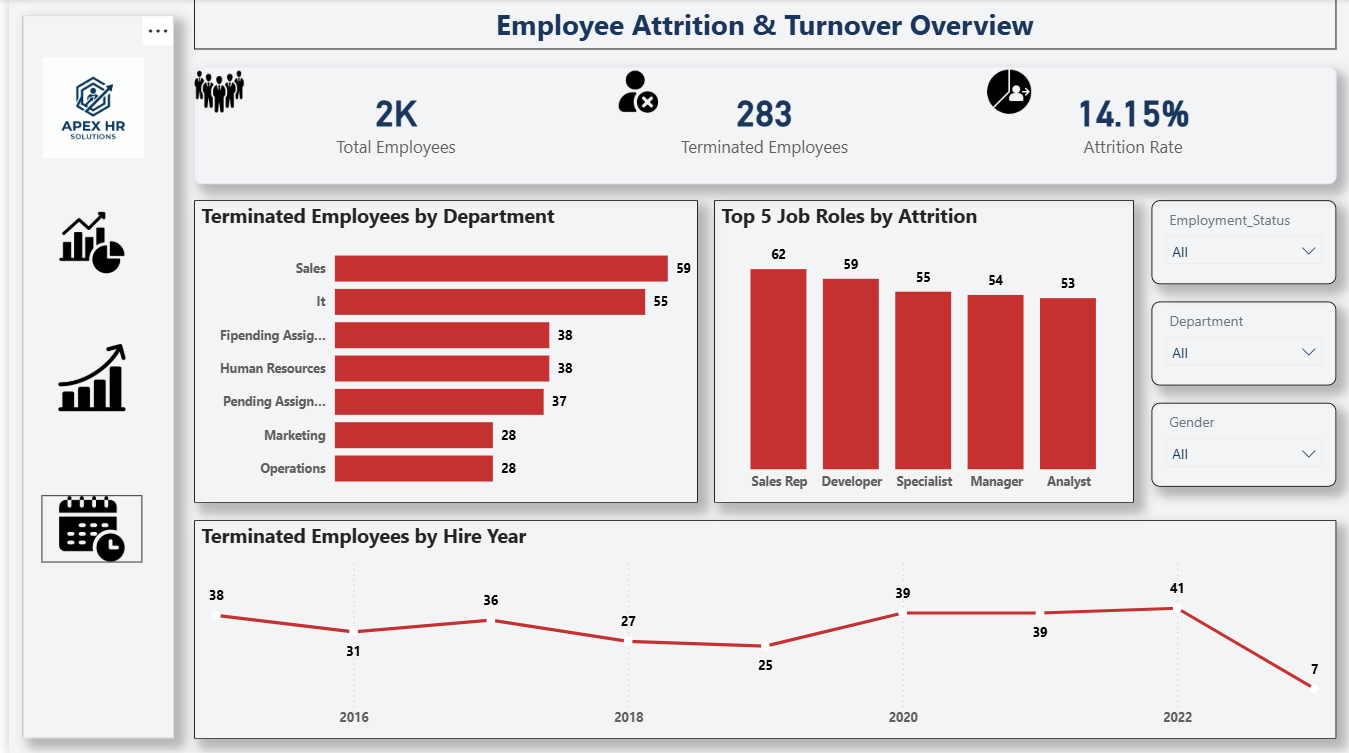

This screenshot's page, from the dashboard's own definition file:
{"tool":"powerbi","page":{"name":"Attrition & Turnover","canvas":[1280,720],"ordinal":2},"visuals":[{"type":"shape","box":[13.4,16,144,688],"z":0,"group":"g2"},{"type":"group","id":"g1","title":"Group 1","box":[176,64,1088,112],"z":0},{"type":"cardVisual","fields":{"Data":["_Measures.Total Employees","_Measures.Terminated Employees","_Measures.Attrition Rate"]},"box":[176,64,1088,112],"z":1000,"group":"g1"},{"type":"image","box":[176,64,48,48],"z":1000},{"type":"image","box":[31.7,201,96,64],"z":1000,"group":"g2"},{"type":"image","box":[31.7,329,96,64],"z":2000,"group":"g2"},{"type":"image","box":[31.7,473,96,64],"z":3000,"group":"g2"},{"type":"slicer","fields":{"Values":["Employees.Employment_Status"]},"box":[1088,384,176,80],"z":4000},{"type":"group","id":"g2","title":"Group 2","box":[13.4,16,144,688],"z":5000},{"type":"image","box":[32,48,96,112],"z":6000},{"type":"slicer","fields":{"Values":["Employees.Employment_Status"]},"box":[1088,288,176,80],"z":7000},{"type":"slicer","fields":{"Values":["Employees.Employment_Status"]},"box":[1088,192,176,80],"z":8000},{"type":"image","box":[928,64,48,48],"z":9000},{"type":"image","box":[576,64,48,48],"z":10000},{"type":"clusteredBarChart","title":"Terminated Employees by Department","fields":{"Category":["Employees.Department"],"Y":["_Measures.Terminated Employees"]},"box":[176,192,480,288],"z":11000},{"type":"clusteredColumnChart","title":"Top 5 Job Roles by Attrition","fields":{"Y":["_Measures.Terminated Employees"],"Category":["Jobs.Job_Title"]},"box":[672,192,400,288],"z":12000},{"type":"lineChart","title":"Terminated Employees by Hire Year","fields":{"Category":["Calendar_Table.Year"],"Y":["_Measures.Terminated Employees"]},"box":[176,496,1088,208],"z":13000},{"type":"textbox","box":[176,0,1088,48],"z":13001}]}

Visuals, with their boxes on the page's 1280x720 design canvas (x1, y1, x2, y2). These are canvas units, not pixel positions in the 1349x753 screenshot, which may show the page scaled, cropped or inside an application window:
shape: <box>13,16,157,704</box>
"Group 1" group: <box>176,64,1264,176</box>
cardVisual - _Measures.Total Employees x _Measures.Terminated Employees: <box>176,64,1264,176</box>
image: <box>176,64,224,112</box>
image: <box>32,201,128,265</box>
image: <box>32,329,128,393</box>
image: <box>32,473,128,537</box>
slicer - Employees.Employment_Status: <box>1088,384,1264,464</box>
"Group 2" group: <box>13,16,157,704</box>
image: <box>32,48,128,160</box>
slicer - Employees.Employment_Status: <box>1088,288,1264,368</box>
slicer - Employees.Employment_Status: <box>1088,192,1264,272</box>
image: <box>928,64,976,112</box>
image: <box>576,64,624,112</box>
"Terminated Employees by Department" clusteredBarChart: <box>176,192,656,480</box>
"Top 5 Job Roles by Attrition" clusteredColumnChart: <box>672,192,1072,480</box>
"Terminated Employees by Hire Year" lineChart: <box>176,496,1264,704</box>
textbox: <box>176,0,1264,48</box>
